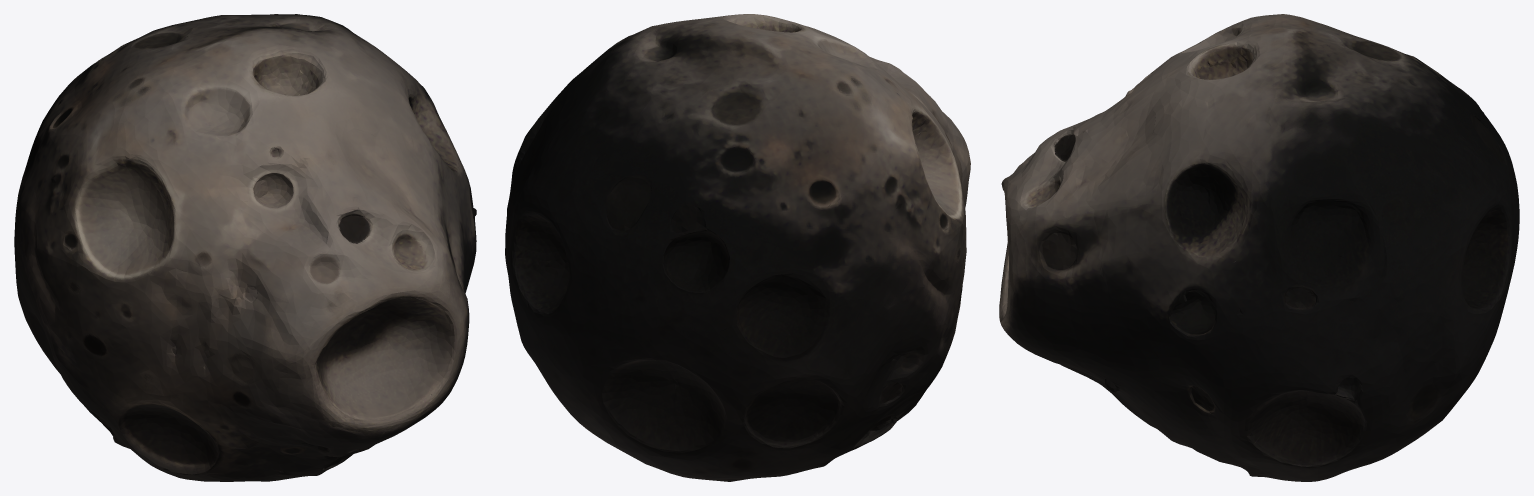
File: asteroid.glb
3 renders of one model, left to right at view 1: azimuth 30°, elevation 25°; view 2: azimuth 150°, elevation 25°; view 3: azimuth 270°, elevation 25°, orthographic. The views are drawn at different scales.
Visible parts, largest first — view 1: world; view 2: world; view 3: world.
Boxes of the visible parts, x1,y1,x2,y2 form: world: (14, 14, 476, 481); world: (505, 14, 970, 481); world: (999, 14, 1519, 481).
Size of the model in its own units: 0.7908 by 0.7971 by 0.9039.
Materials: 1 (1 with a texture image).
